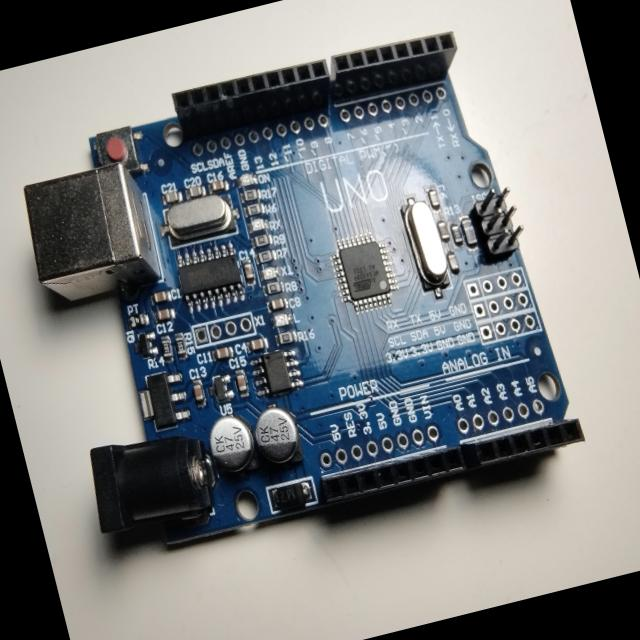arduino: (0, 1, 600, 583)
